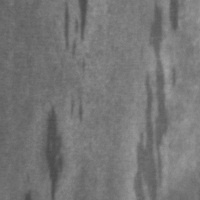inclusion: (128, 1, 182, 199), (60, 0, 90, 125), (41, 104, 66, 199), (20, 173, 34, 199)
